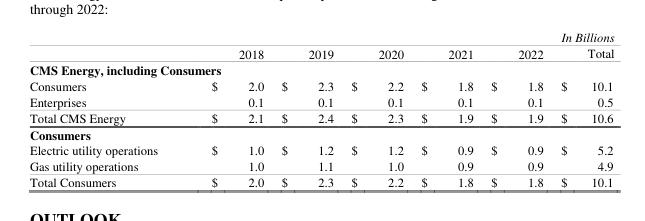table: (28, 28, 613, 189)
table column: (28, 28, 183, 189), (183, 28, 272, 189), (341, 28, 411, 189), (411, 28, 481, 189), (481, 28, 551, 189), (272, 28, 341, 189), (551, 28, 613, 189)
table column header: (28, 28, 613, 61)
table projected row header: (28, 125, 613, 142), (28, 61, 613, 77)
table row: (28, 28, 613, 61), (28, 125, 613, 142), (28, 61, 613, 77), (28, 77, 613, 93), (28, 93, 613, 109), (28, 109, 613, 125), (28, 157, 613, 173), (28, 173, 613, 189), (28, 142, 613, 157)
